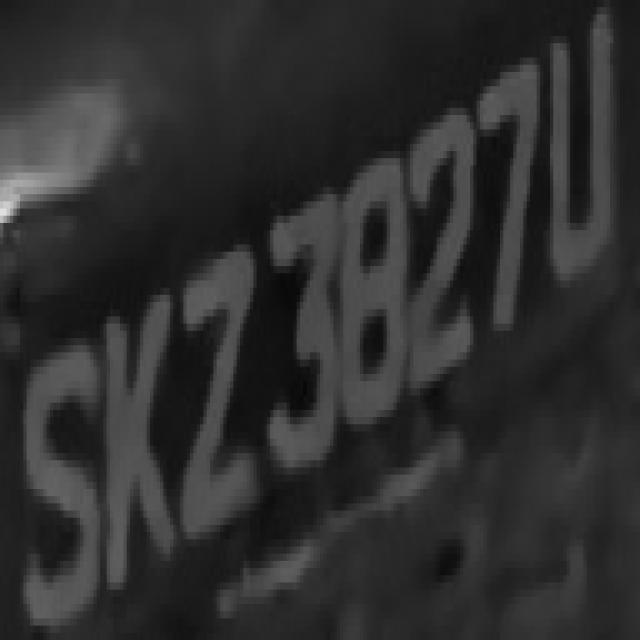2: (390, 94, 473, 388)
3: (250, 187, 340, 482)
7: (464, 79, 544, 367)
8: (323, 144, 407, 446)
K: (93, 259, 187, 604)
S: (23, 323, 106, 640)
U: (543, 0, 619, 280)
Z: (156, 259, 266, 568)
